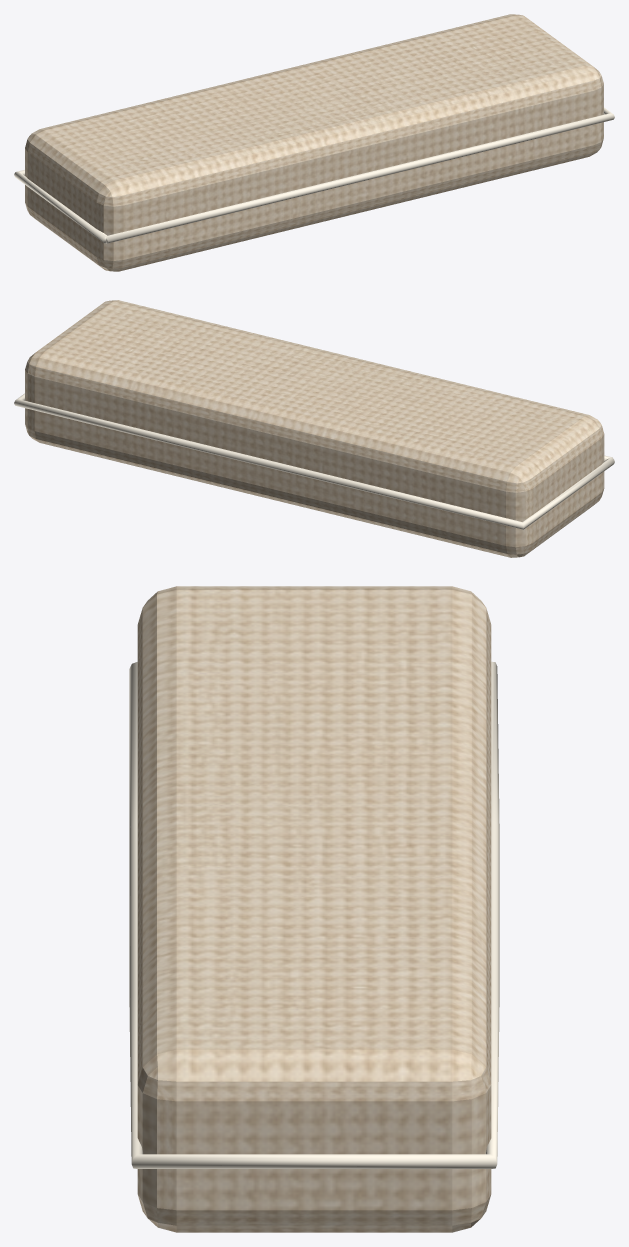
The model's file is cushion_bar.glb.
3 renders of one model, top to bottom at view 1: azimuth 30°, elevation 25°; view 2: azimuth 150°, elevation 25°; view 3: azimuth 270°, elevation 25°, orthographic. The views are drawn at different scales.
Parts seen in each view (by area): view 1: cushion_bar; view 2: cushion_bar; view 3: cushion_bar.
Part boxes in pixels (left/top/right/bottom): cushion_bar: left=14, top=14, right=614, bottom=271; cushion_bar: left=14, top=300, right=614, bottom=557; cushion_bar: left=129, top=586, right=499, bottom=1232.
Bounding box in the file's own units: 0.7264 × 0.122 × 0.228.
2 materials, 1 textured.
